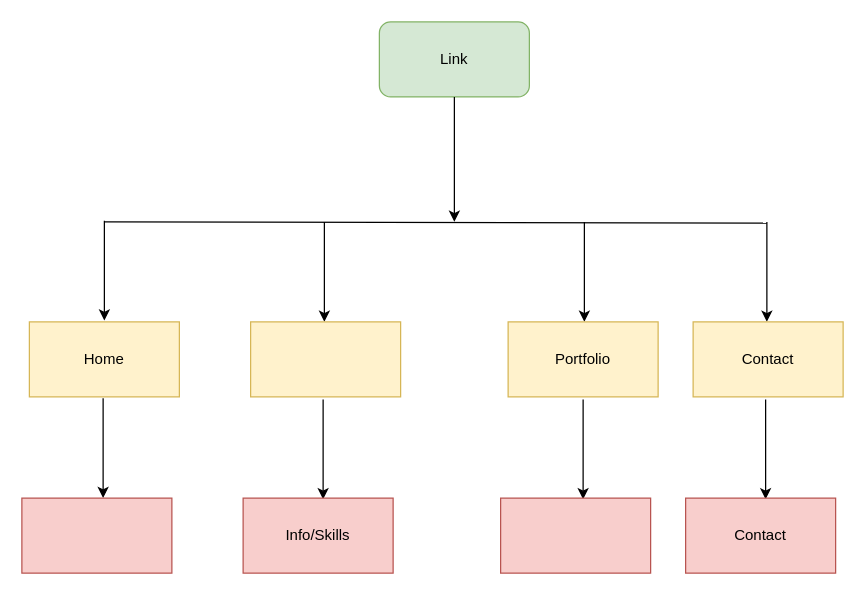
This 865x595 diagram has some shape labels left out. Each missing label, with the box of its shape:
About: (249, 321, 401, 397)
Intro/CV: (21, 497, 172, 573)
Project: (499, 497, 651, 573)
